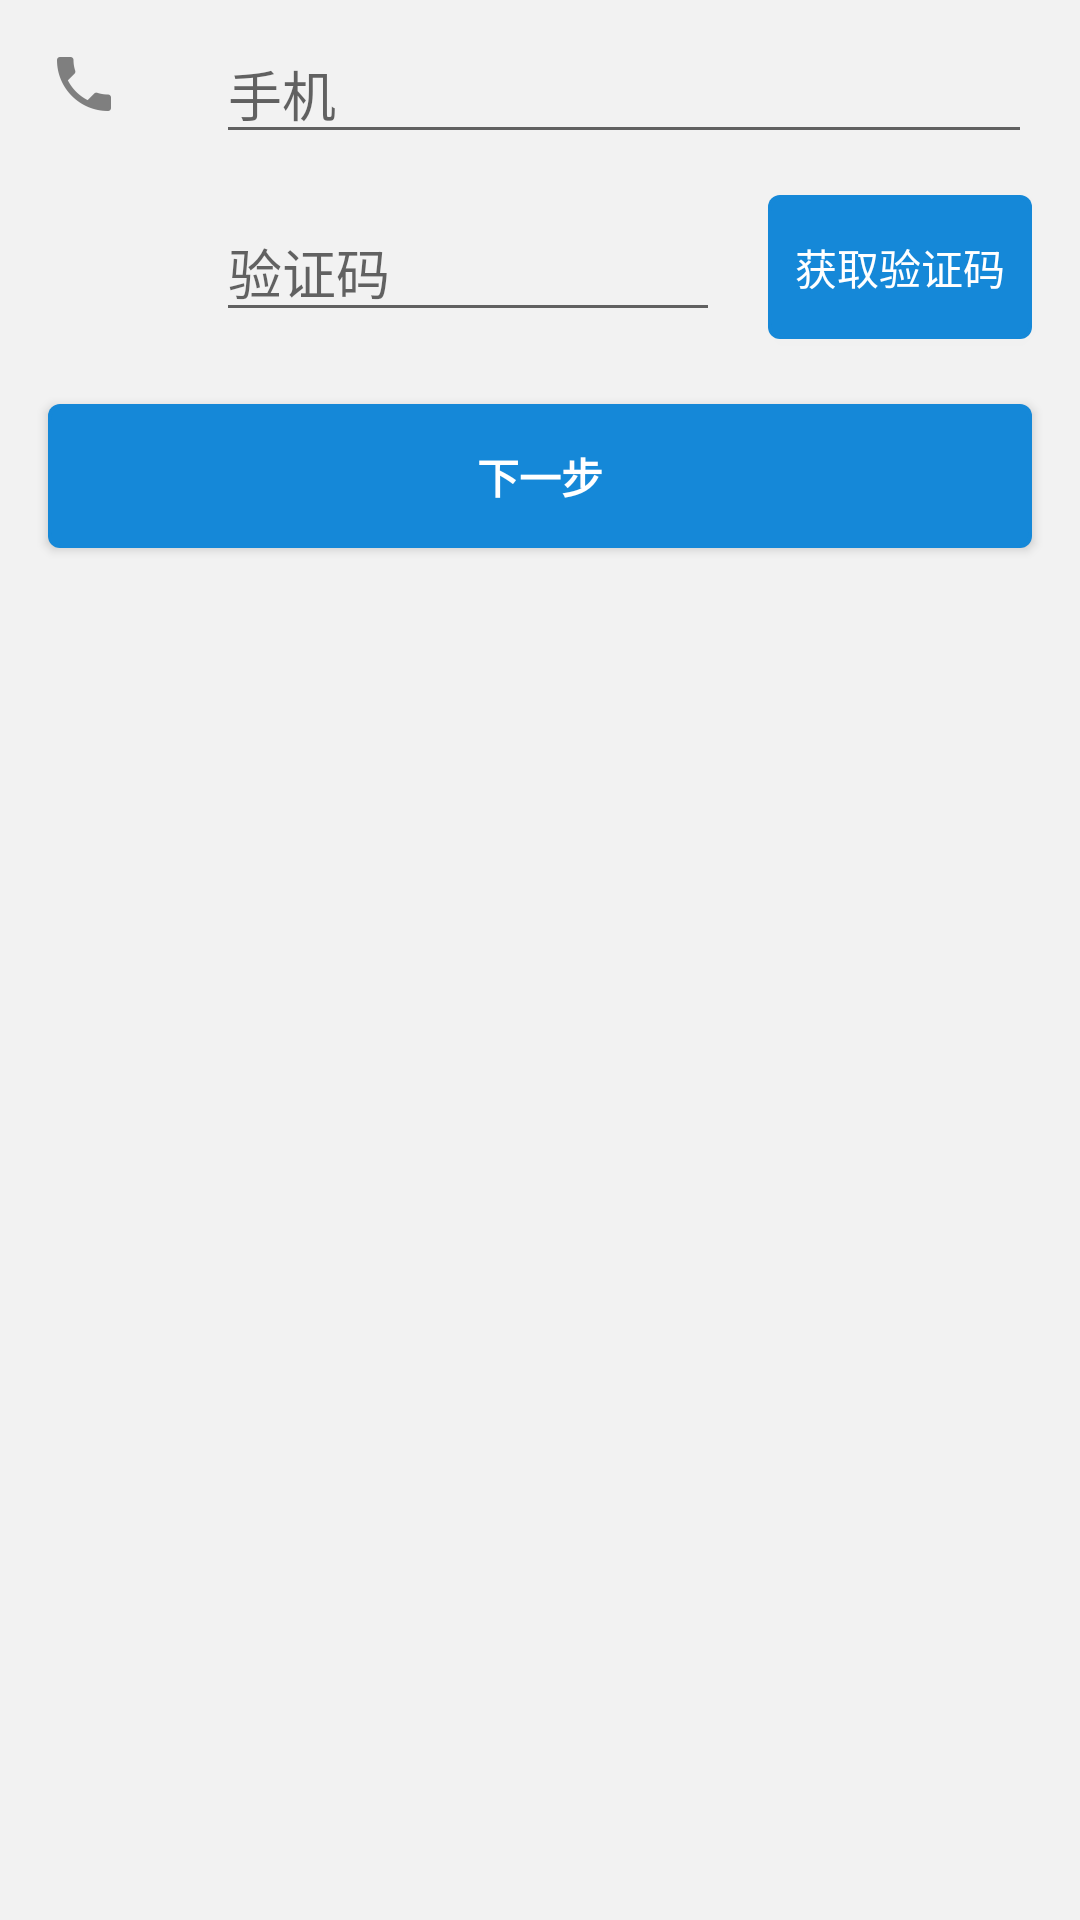

Where icons sit on this 1080×1920 app screen, as detection(x1, y1, x2, y2):
phone: detection(57, 57, 111, 111)
